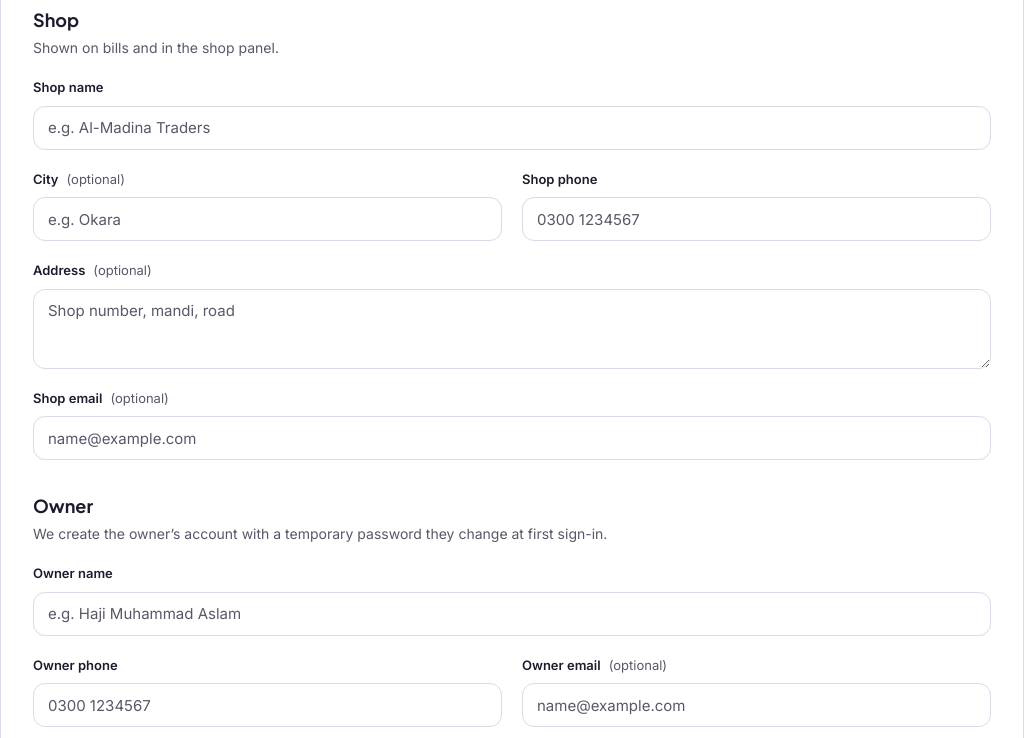
Scenario: CreateShopForm › checks phone and email formats
In the field labelled "Shop name": (512, 128) [33,106,991,150], type "Al-Madina Traders"
In the field labelled "City (optional)": (268, 219) [33,197,502,241], type "Okara"
In the field labelled "Shop phone": (756, 219) [522,197,991,241], type "0300-1234567"
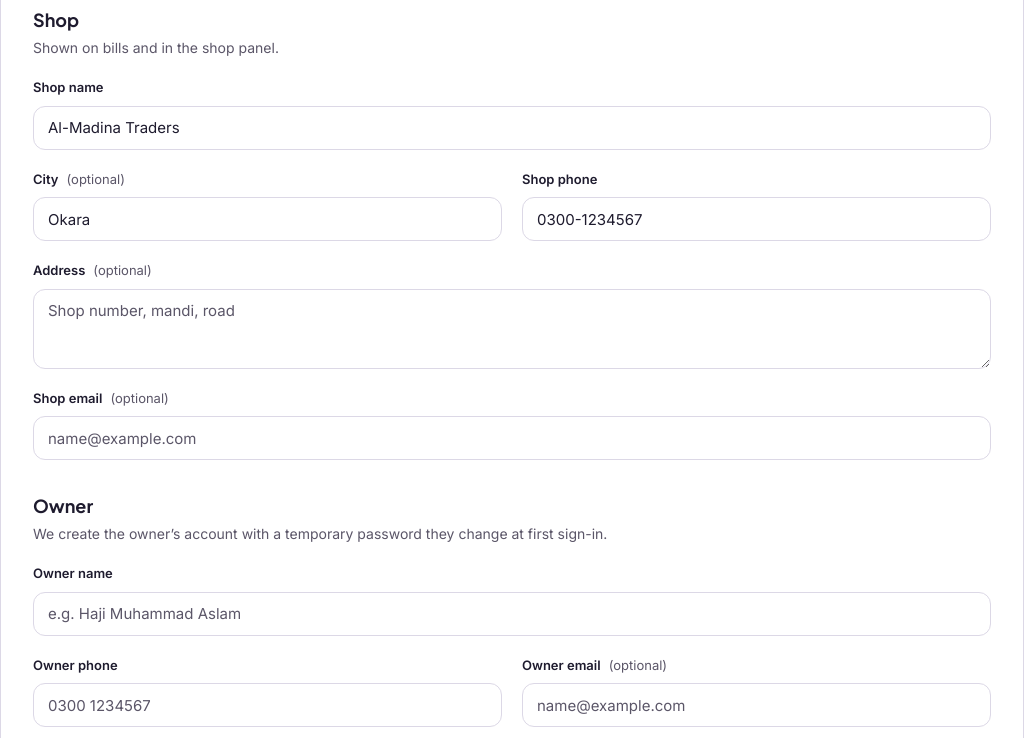
In the field labelled "Owner name": (512, 614) [33,592,991,636], type "Haji Aslam"
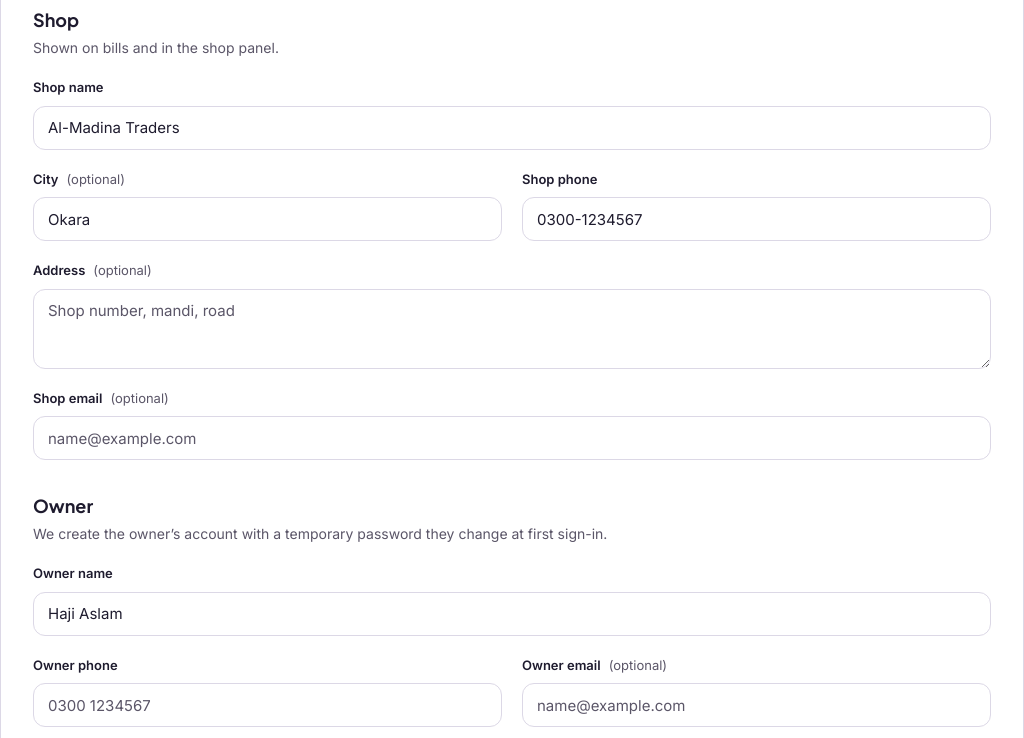
In the field labelled "Owner phone": (268, 705) [33,683,502,727], type "0300 7654321"
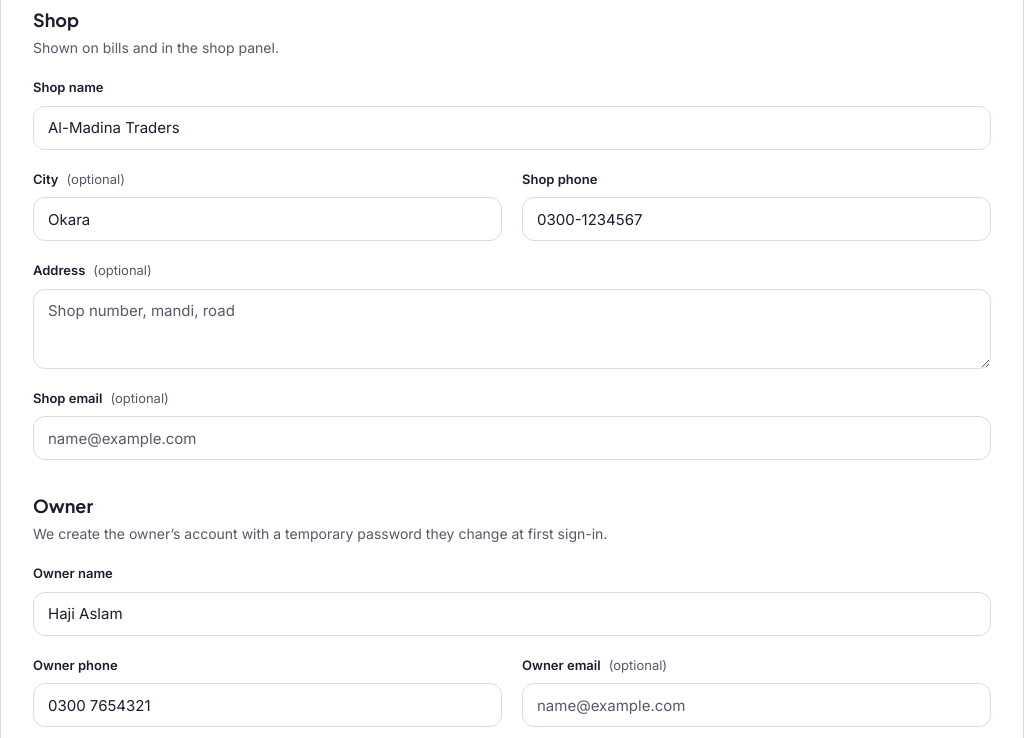
Replace the text in the field labelled "Owner phone" with "12345": (268, 705) [33,683,502,727]
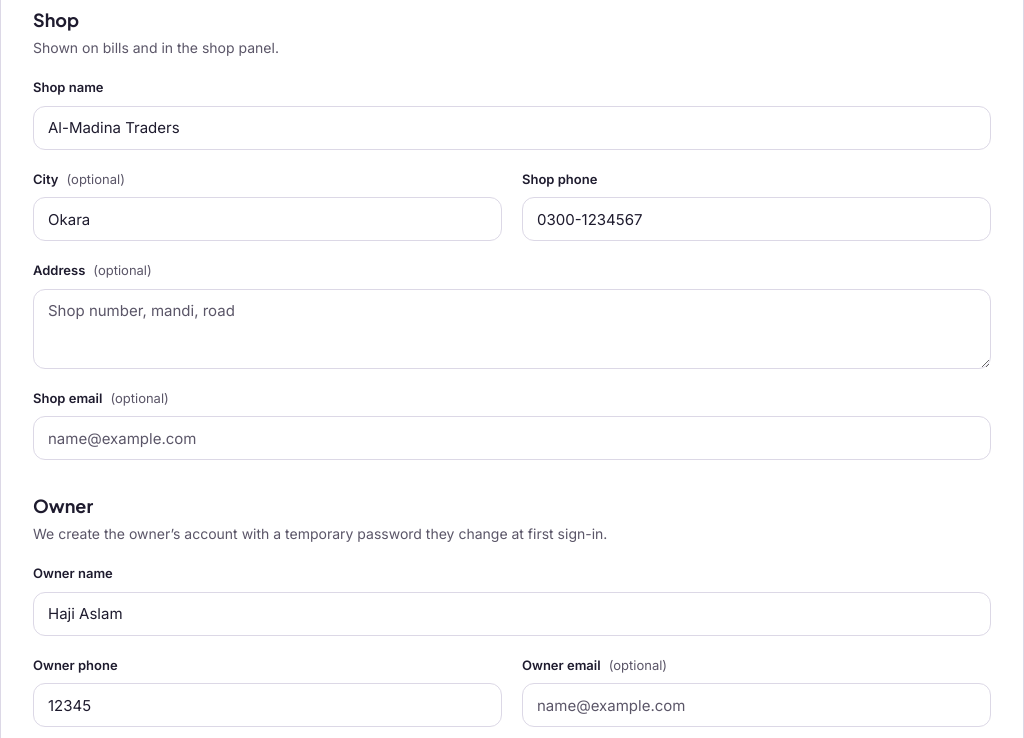
In the field labelled "Owner email (optional)": (756, 705) [522,683,991,727], type "not-an-email"
(page scrolled)
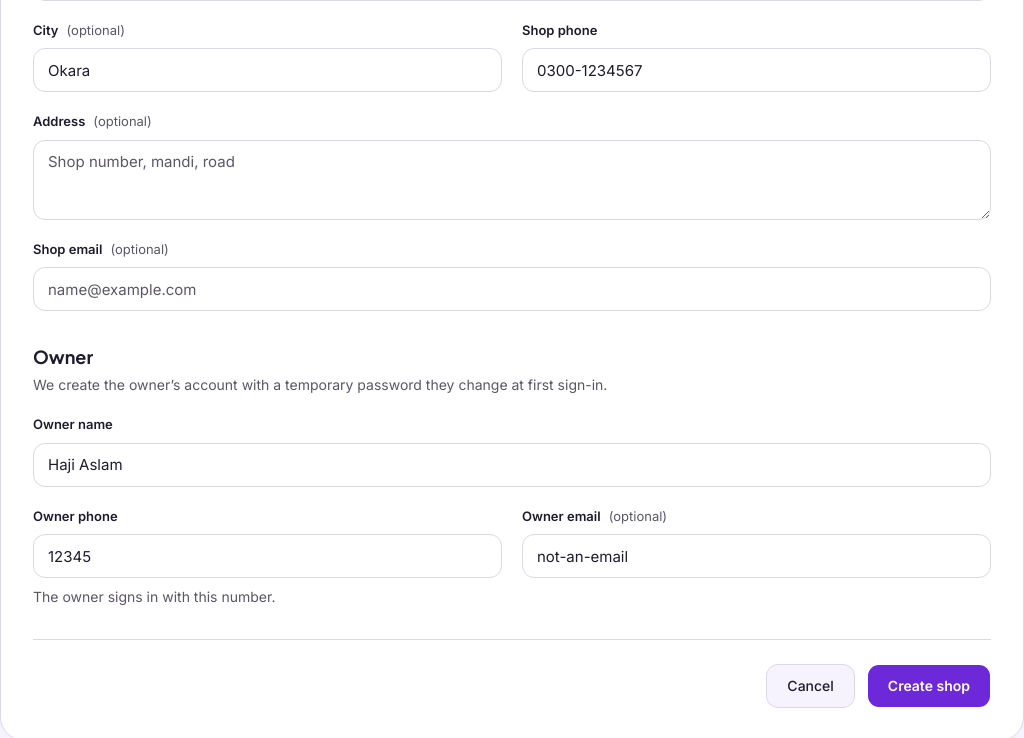
Click the button "Create shop": (929, 686) [867,664,991,708]
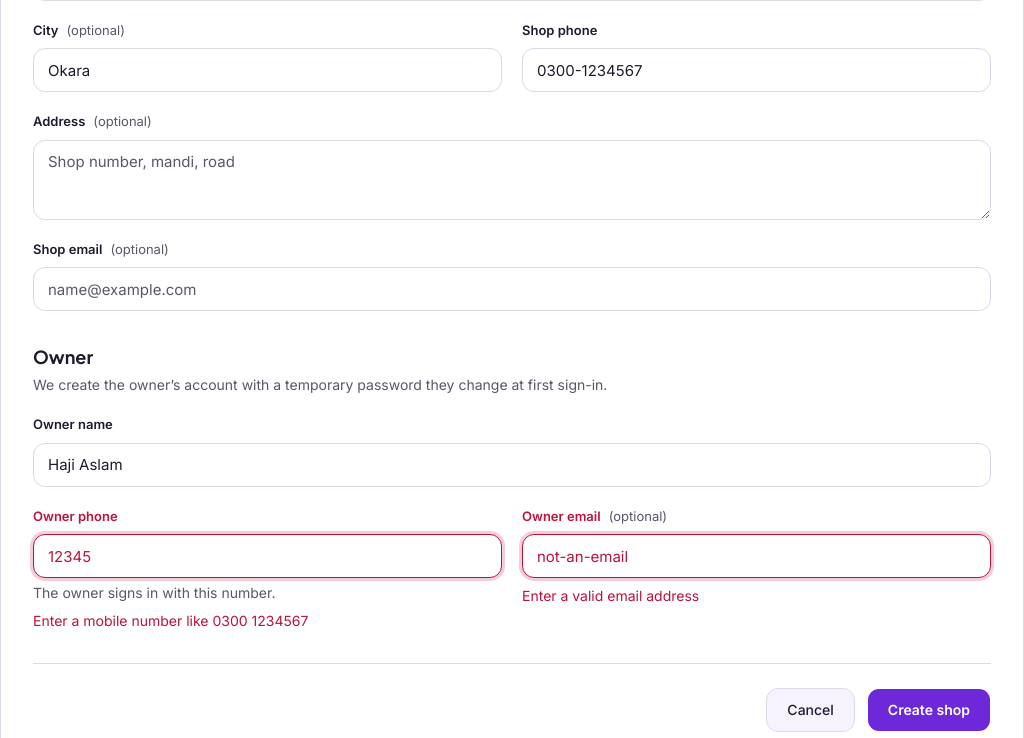
Result: the text "Enter a mobile number like 0300 1234567" is shown at [33,612,308,629]
Result: the text "Enter a valid email address" is shown at [522,587,699,604]
